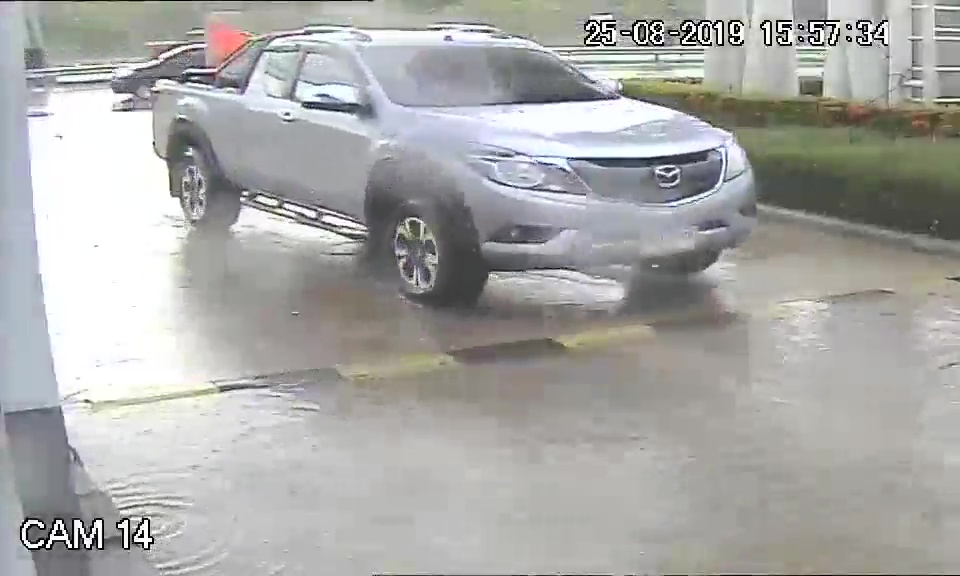pickup: (149, 20, 760, 308)
